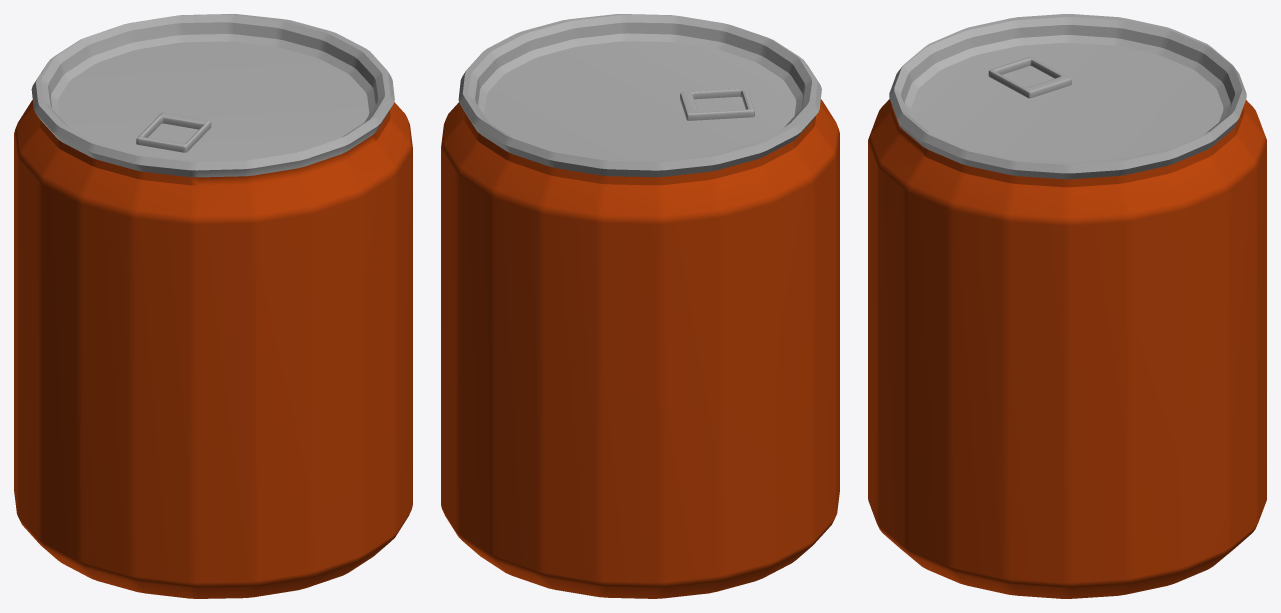
Rendered from Ürün20.fbx.
3 renders of one model, left to right at view 1: azimuth 30°, elevation 25°; view 2: azimuth 150°, elevation 25°; view 3: azimuth 270°, elevation 25°, orthographic.
Visible parts, largest first — view 1: pCylinder14; view 2: pCylinder14; view 3: pCylinder14.
Boxes of the visible parts, x1,y1,x2,y2 form: pCylinder14: [14, 14, 412, 598]; pCylinder14: [441, 14, 839, 598]; pCylinder14: [868, 14, 1266, 598].
Size of the model in its own units: 11.57 by 14.02 by 11.57.
